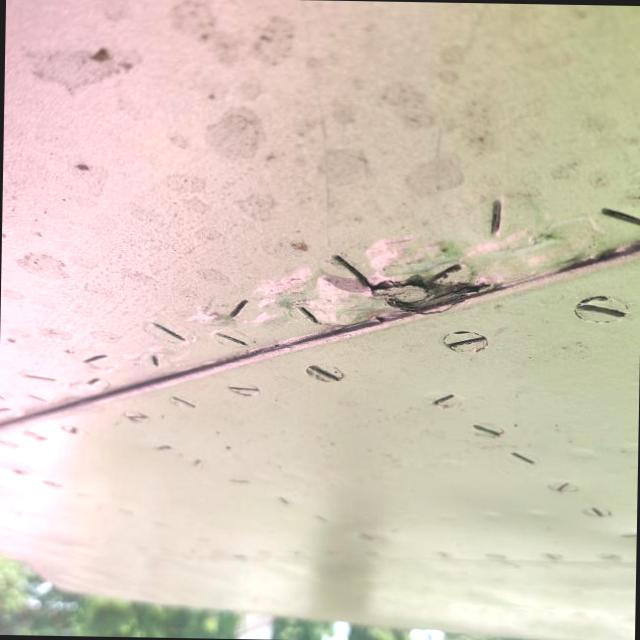paint-off: (348, 240, 510, 328)
